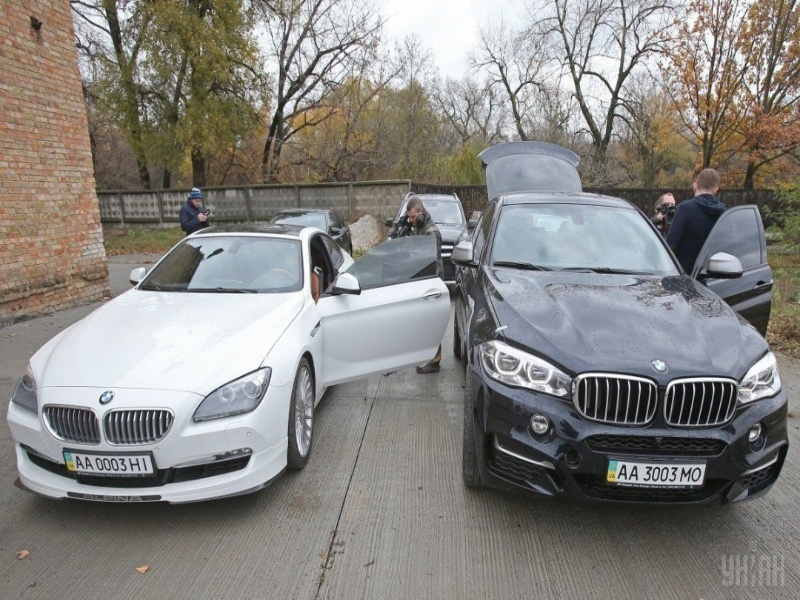car: (451, 141, 789, 511), (6, 225, 450, 503), (388, 191, 470, 291), (271, 209, 353, 256)
person: (402, 198, 445, 374), (668, 168, 725, 273), (181, 186, 208, 236), (650, 192, 676, 235)
plate: (607, 460, 705, 485), (63, 449, 155, 474)
